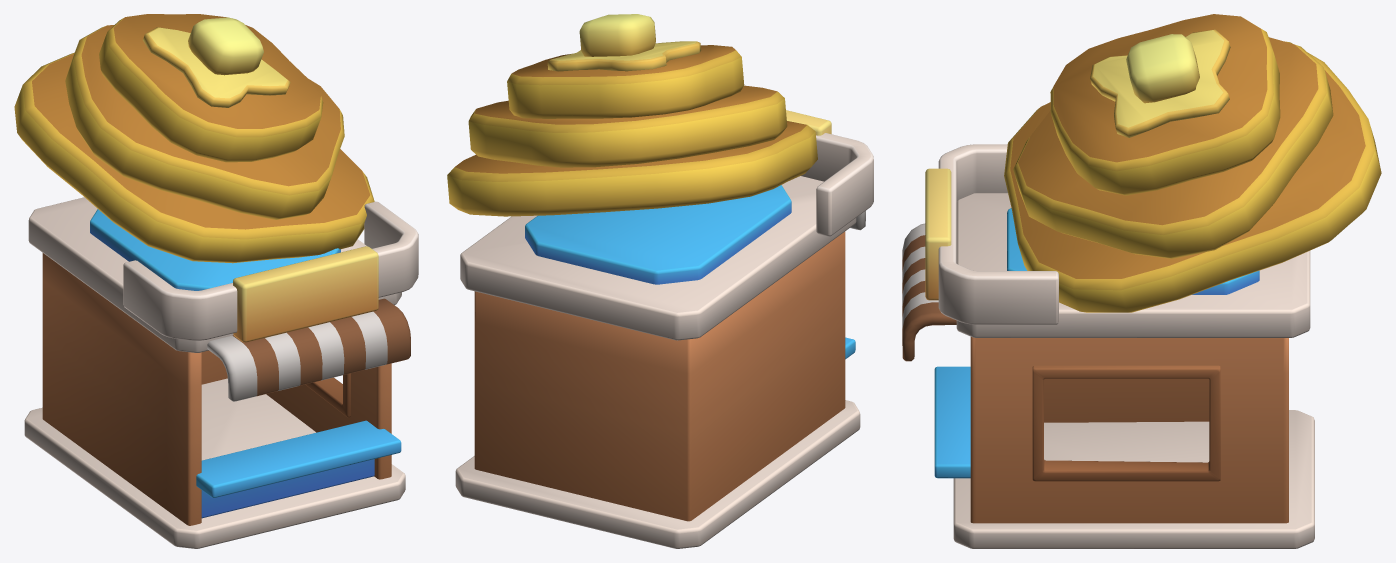
File: lpb_store_pancake.fbx
3 renders of one model, left to right at view 1: azimuth 30°, elevation 25°; view 2: azimuth 150°, elevation 25°; view 3: azimuth 270°, elevation 25°, orthographic. The views are drawn at different scales.
Parts seen in each view (by area): view 1: Store.005; view 2: Store.005; view 3: Store.005.
Part boxes in pixels (x1=…): Store.005: x1=14, y1=14, x2=418, y2=548; Store.005: x1=447, y1=14, x2=873, y2=548; Store.005: x1=902, y1=14, x2=1381, y2=548.
Bounding box in the file's own units: 404 × 564 × 535.
